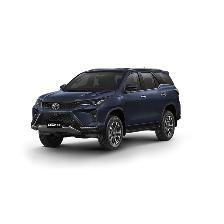NON-EV: (32, 68, 184, 152)
